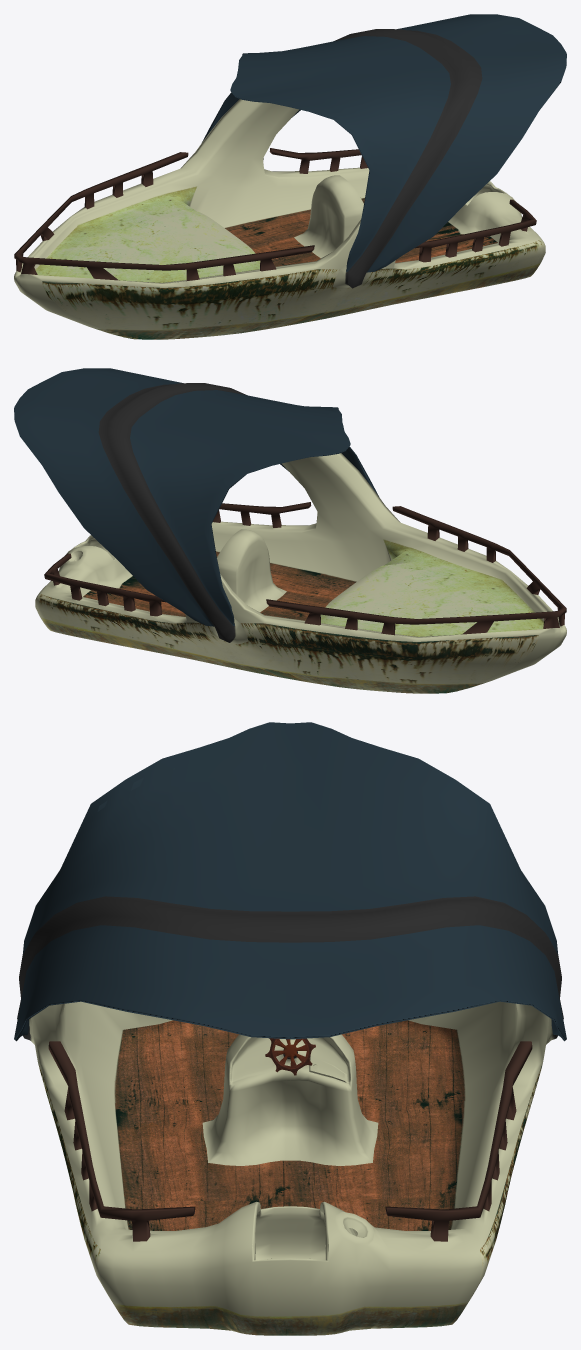
File: boat_mainMod02.fbx
3 views of the same model, one above another, from view 1: azimuth 30°, elevation 25°; view 2: azimuth 150°, elevation 25°; view 3: azimuth 270°, elevation 25° (orthographic). The views are drawn at different scales.
Parts seen in each view (by area): view 1: boat_mainMod01; view 2: boat_mainMod01; view 3: boat_mainMod01.
Boxes of the visible parts, box(x1,y1,x2,y2) form: boat_mainMod01: box(14, 14, 566, 339); boat_mainMod01: box(14, 368, 566, 693); boat_mainMod01: box(14, 722, 566, 1335).
Size of the model in its own units: 380 by 145 by 187.
